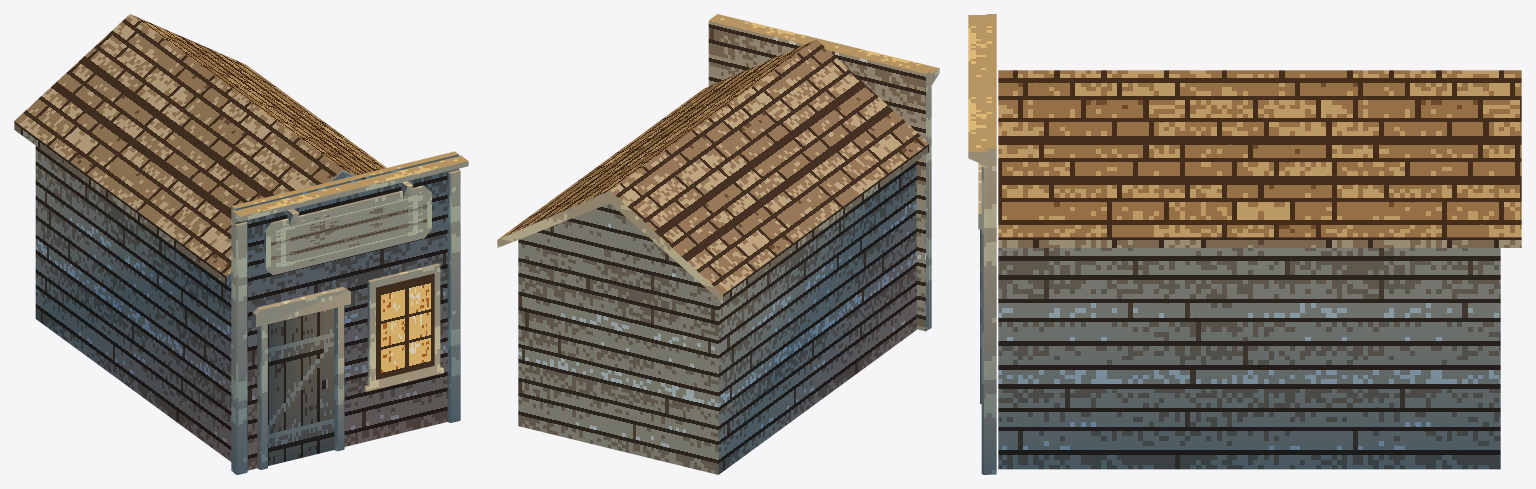
File: wtown.facade.glb
3 renders of one model, left to right at view 1: azimuth 30°, elevation 25°; view 2: azimuth 150°, elevation 25°; view 3: azimuth 270°, elevation 25°, orthographic. The views are drawn at different scales.
Visible parts, largest first — view 1: kit_roof, kit_body, kit_front, kit_card_panes, kit_trim, kit_windows; view 2: kit_body, kit_roof, kit_front, kit_trim; view 3: kit_body, kit_roof, kit_trim, kit_front.
Boxes of the visible parts, x1,y1,x2,y2 form: kit_roof: (14,14,386,284); kit_body: (35,146,351,461); kit_front: (231,151,458,472); kit_card_panes: (268,191,434,465); kit_trim: (232,155,468,474); kit_windows: (364,263,443,391); kit_body: (518,161,916,474); kit_roof: (497,39,929,302); kit_front: (708,18,929,331); kit_trim: (710,14,939,328); kit_body: (998,248,1500,469); kit_roof: (998,70,1521,247); kit_trim: (968,15,988,474); kit_front: (986,14,996,474).
Size of the model in its own units: 3.94 by 4.44 by 6.61.
Materials: 6 (6 with a texture image).
